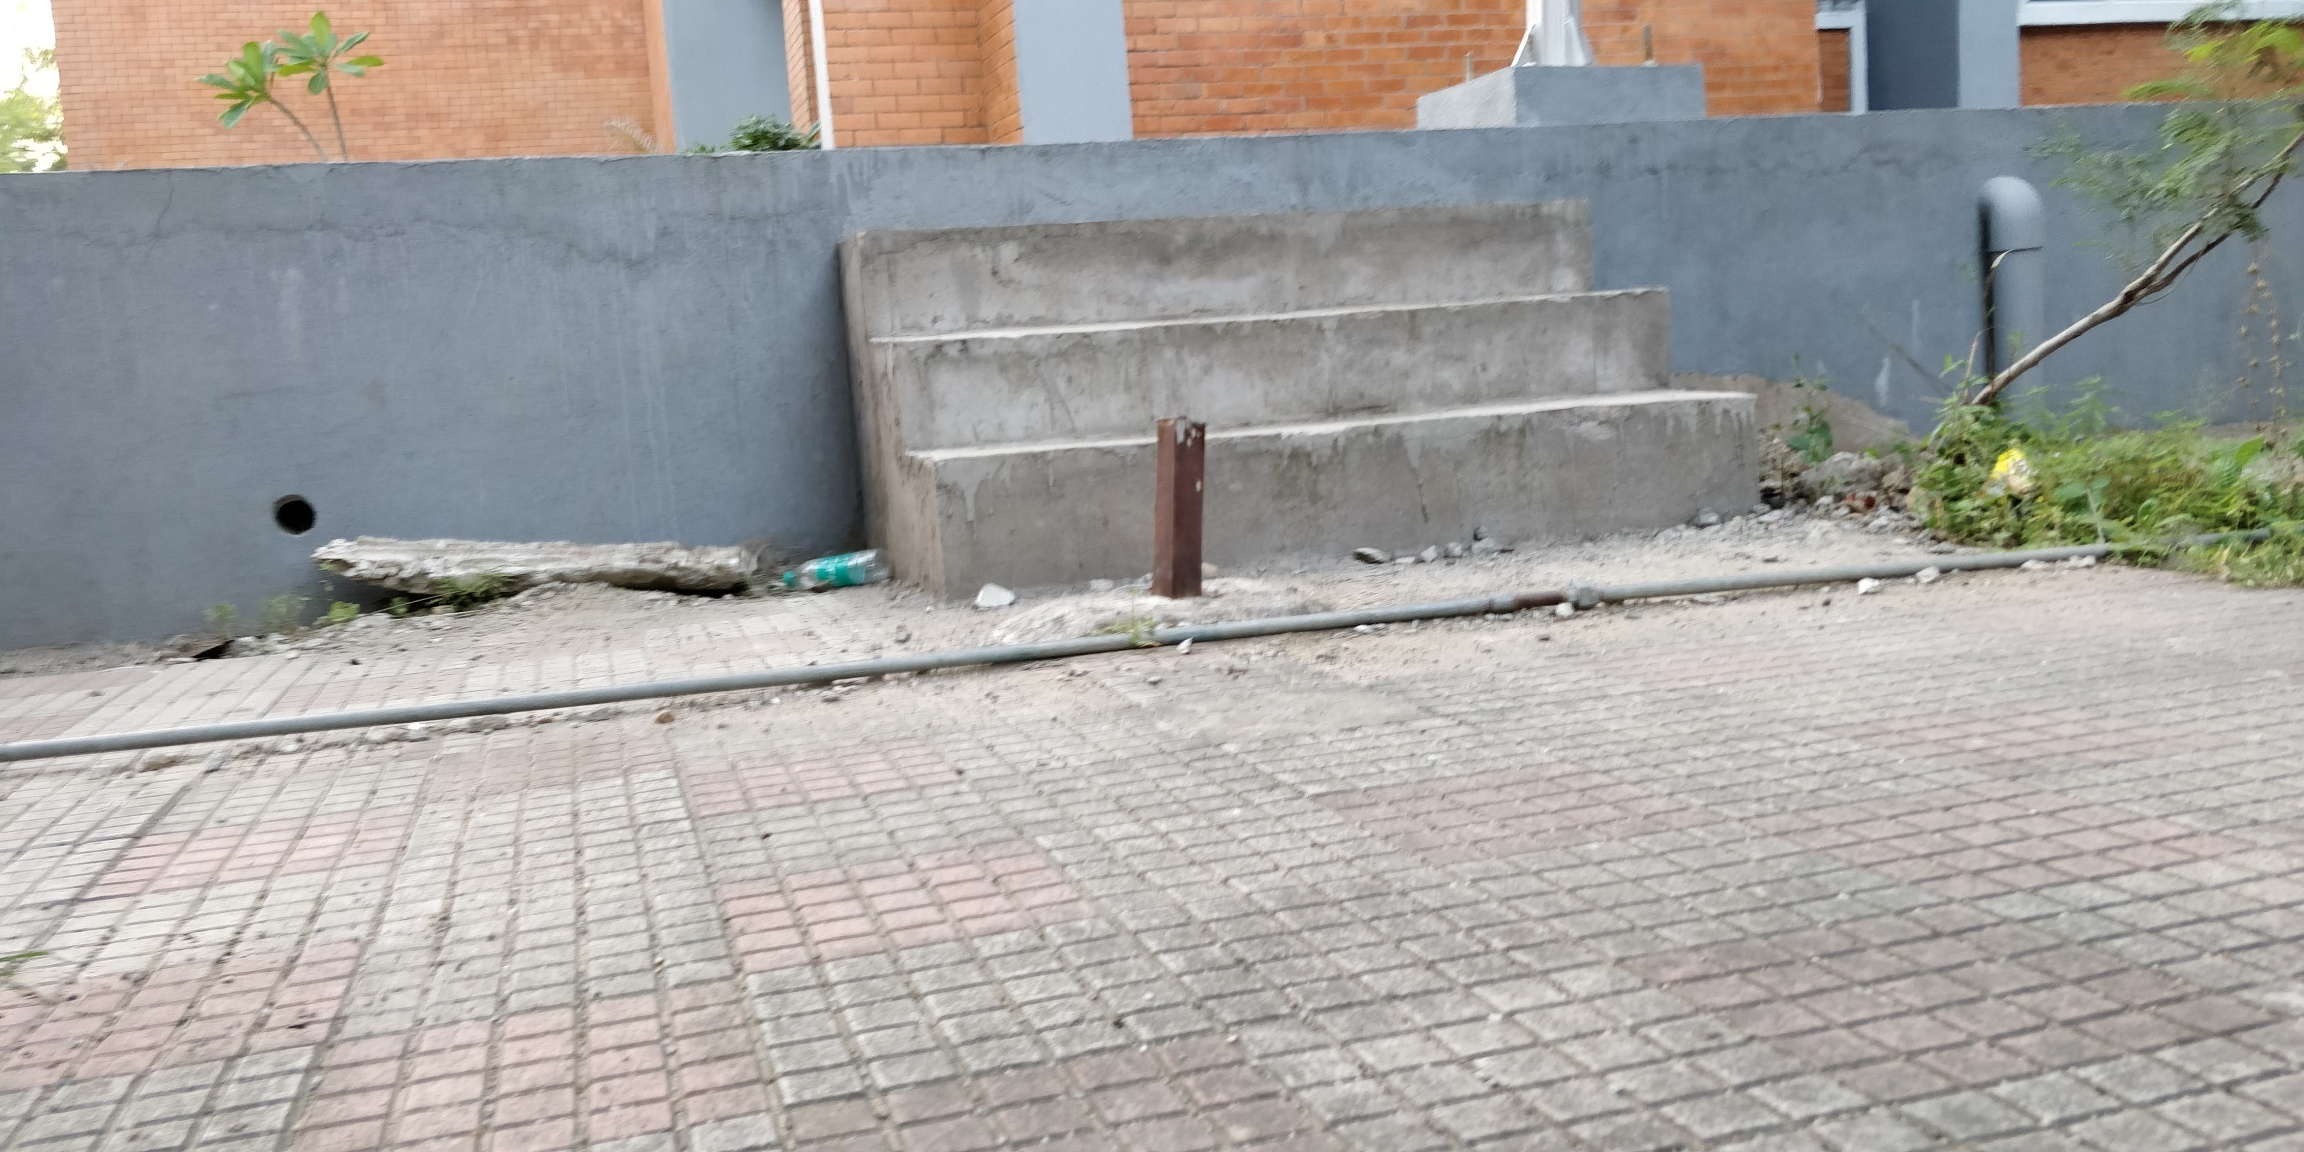stairs_up: (860, 244, 1718, 598)
